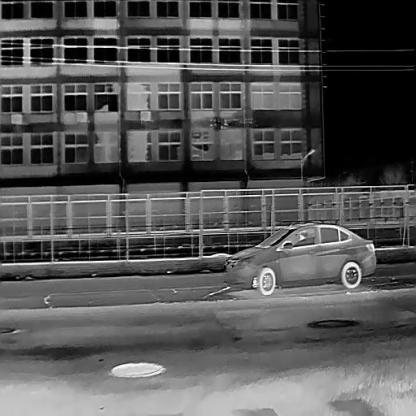car: (221, 220, 377, 295)
